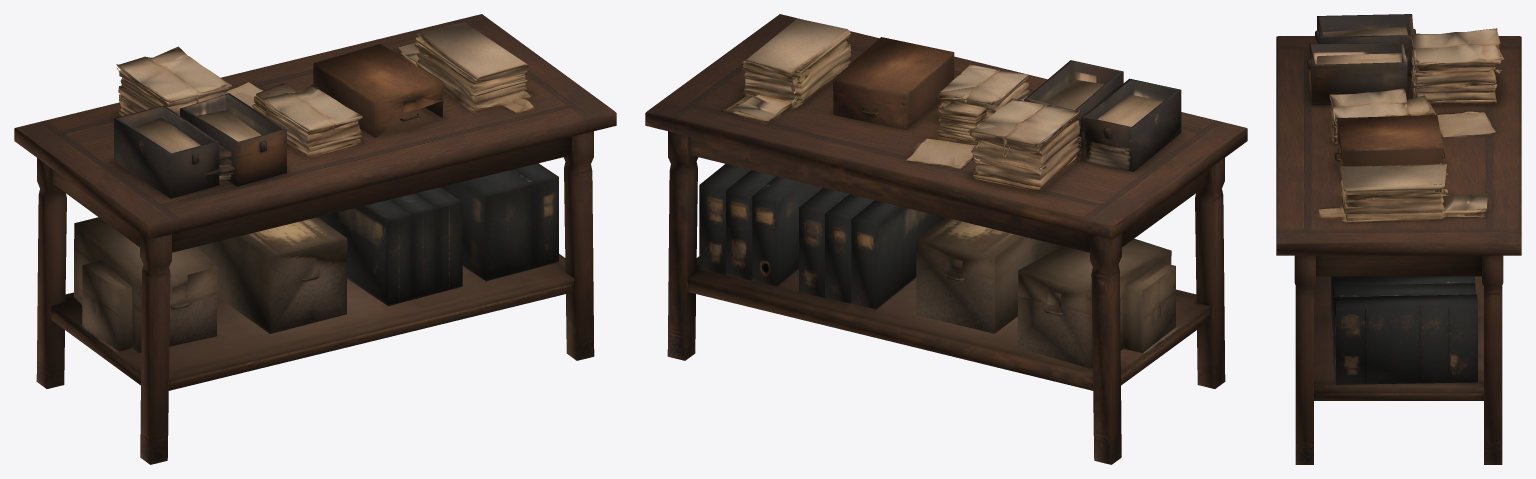
The model's file is furniture-document-table.glb.
The picture shows the model from 3 angles, left to right: view 1: azimuth 30°, elevation 25°; view 2: azimuth 150°, elevation 25°; view 3: azimuth 270°, elevation 25°; orthographic projection. The views are drawn at different scales.
Parts seen in each view (by area): view 1: tripo_node_06c28afe-31a9-493d-9b2f-fcc901f81007; view 2: tripo_node_06c28afe-31a9-493d-9b2f-fcc901f81007; view 3: tripo_node_06c28afe-31a9-493d-9b2f-fcc901f81007.
Boxes of the visible parts, <box> form: tripo_node_06c28afe-31a9-493d-9b2f-fcc901f81007: <box>14,14,616,464</box>; tripo_node_06c28afe-31a9-493d-9b2f-fcc901f81007: <box>645,14,1247,464</box>; tripo_node_06c28afe-31a9-493d-9b2f-fcc901f81007: <box>1276,14,1521,464</box>.
Size of the model in its own units: 1.3 by 0.8 by 0.65.
1 material, 1 textured.
